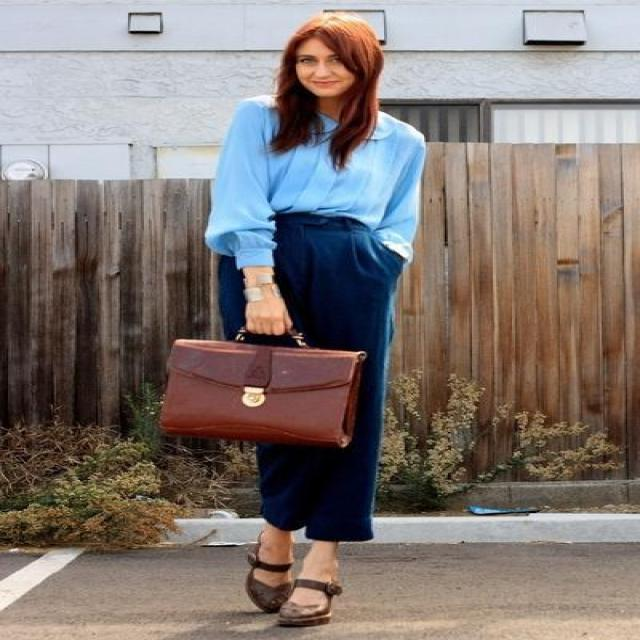bag: (146, 339, 364, 452)
pants: (213, 207, 405, 542)
shirt: (205, 102, 424, 268)
shoe: (246, 560, 341, 627)
